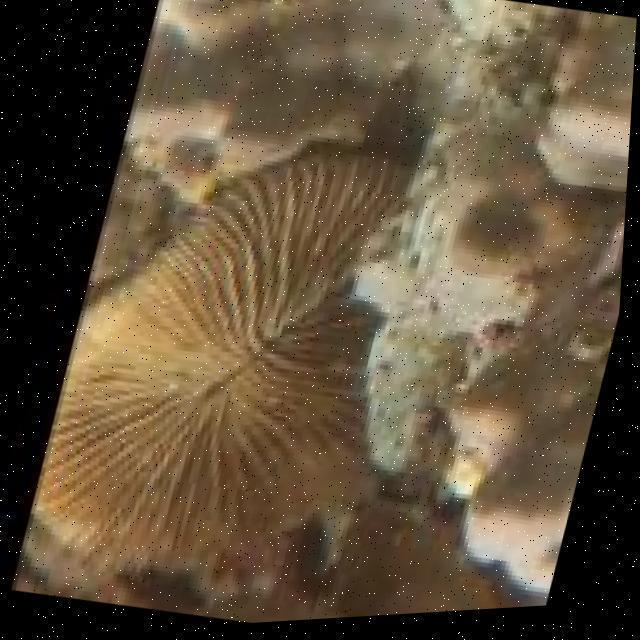Healthy Coral: (25, 106, 416, 618)
